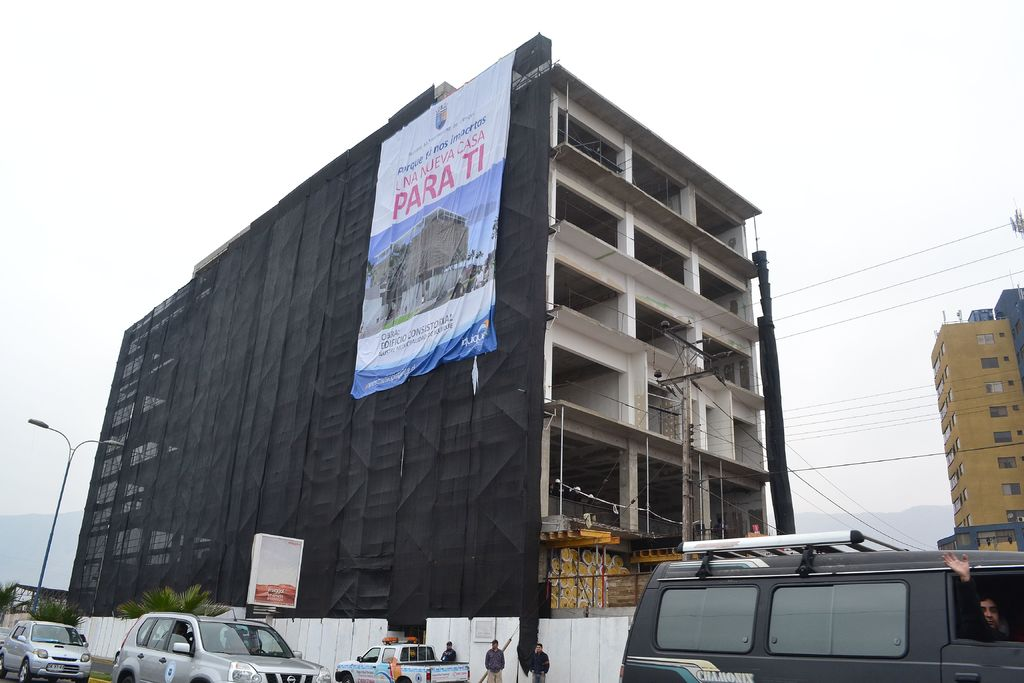Car: (619, 525, 1023, 680), (118, 608, 333, 682), (332, 636, 472, 682), (0, 617, 93, 682), (0, 629, 8, 643)
